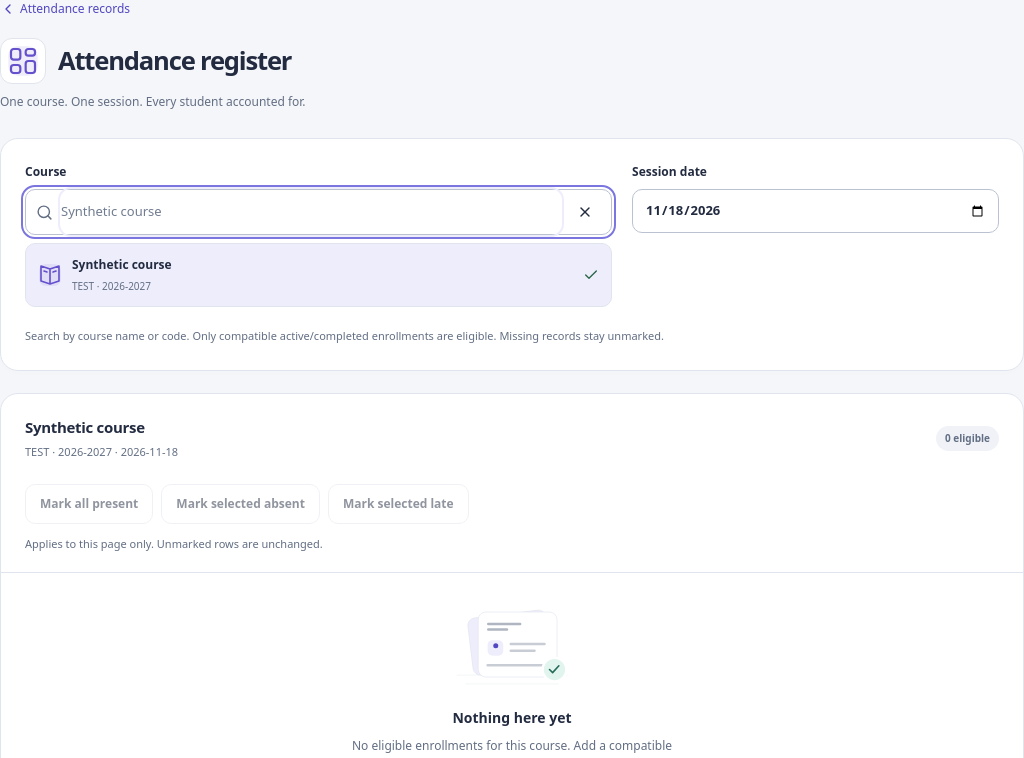
Test: handles an empty session date without leaving the user in an infinite loading state
This screenshot has width=1024, height=758.
Earlier steps of the test are not shown.
Check: the text "0 eligible" is shown, box x1=936 y1=426 x2=999 y2=451
Clear the date field labelled "Session date" at x=816, y=211, box x1=632 y1=189 x2=999 y2=233
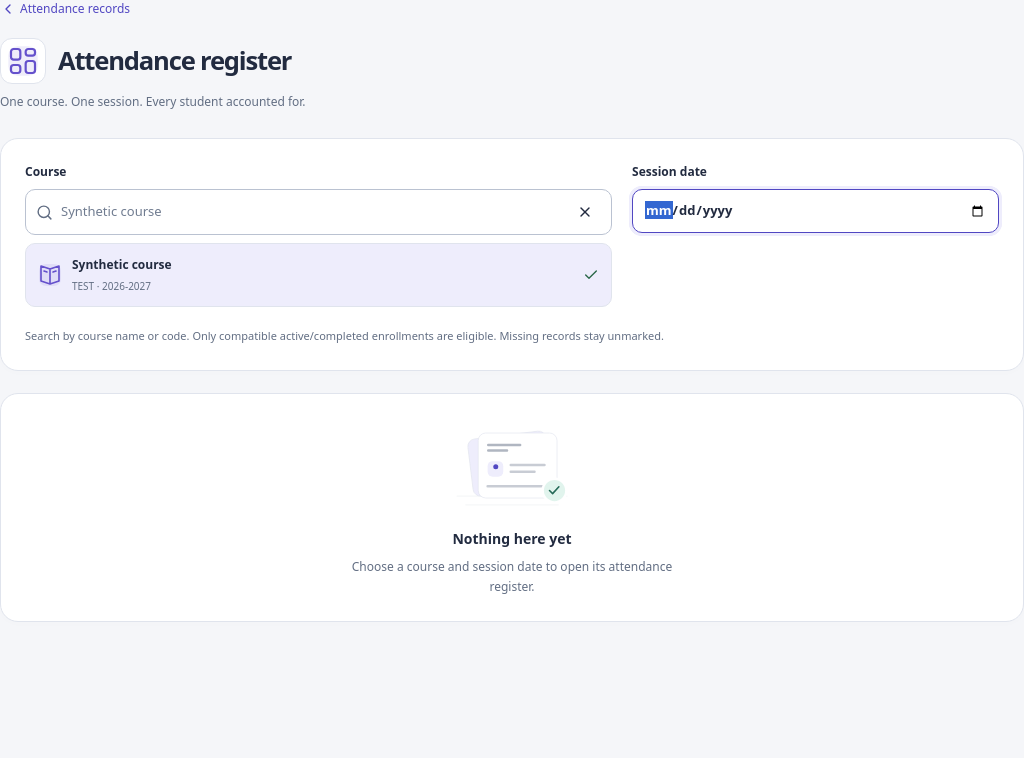
Check: the text "Choose a course and session date" is shown, box x1=352 y1=558 x2=672 y2=595
